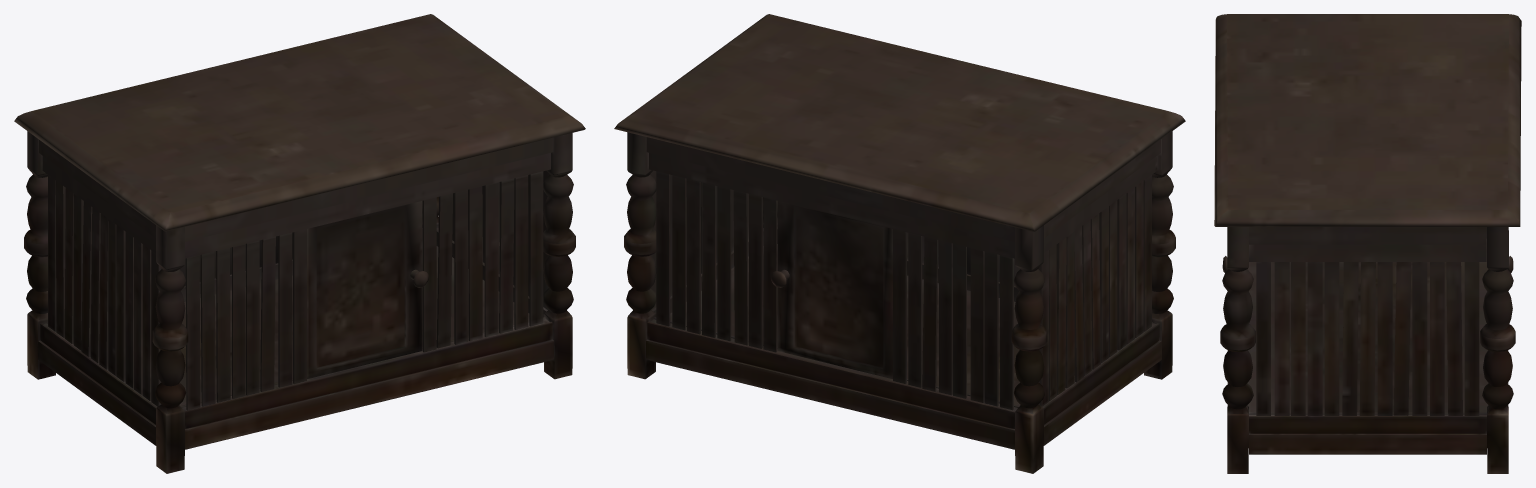
The model's file is gallinera_table.glb.
The picture shows the model from 3 angles, left to right: view 1: azimuth 30°, elevation 25°; view 2: azimuth 150°, elevation 25°; view 3: azimuth 270°, elevation 25°; orthographic projection.
Visible parts, largest first — view 1: gallinera_table; view 2: gallinera_table; view 3: gallinera_table.
Part boxes in pixels (left/top/right/bottom): gallinera_table: left=14, top=14, right=585, bottom=473; gallinera_table: left=614, top=14, right=1185, bottom=473; gallinera_table: left=1214, top=14, right=1521, bottom=473.
Size of the model in its own units: 0.8266 by 0.4872 by 0.5174.
1 material, 1 textured.
